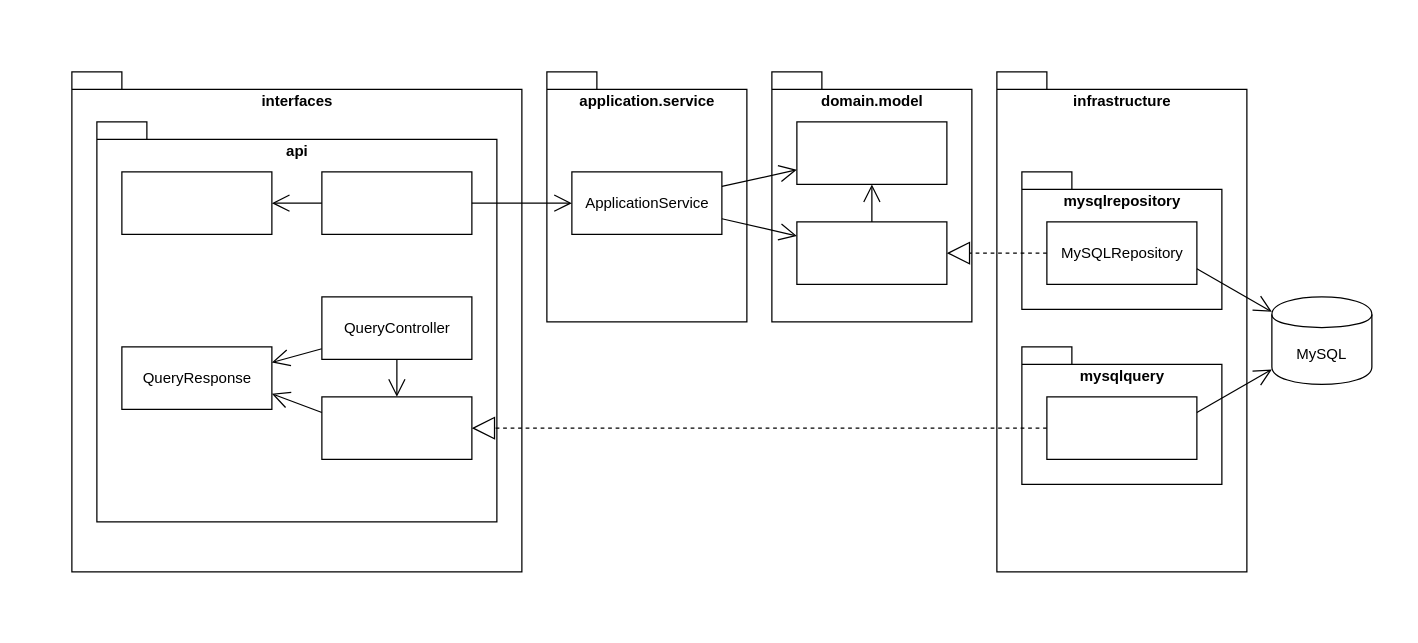
Image size: 1418x643. Some labels were removed from this diagram. Each missing label, with the centre of its shape:
<< interface >> QueryService: pixel 396 427
<< interface >> Repository: pixel 871 252
Aggregate: pixel 871 152
CommandController: pixel 396 202
CommandRequest: pixel 196 202
MySQLQueryService: pixel 1121 427
